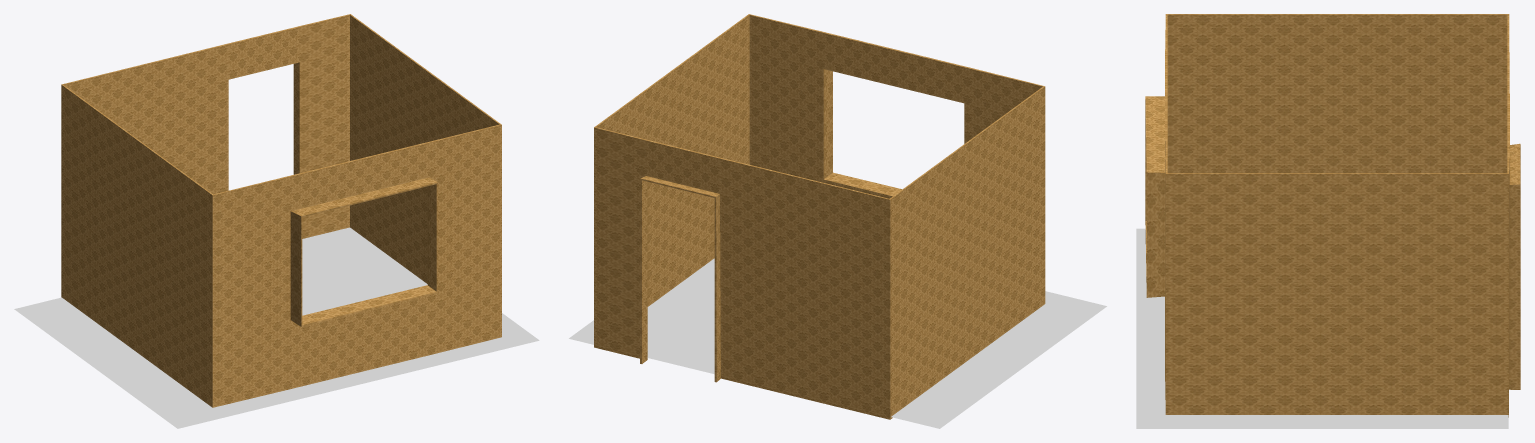
The model's file is Room_Kitchen.fbx.
3 views of the same model, side by side, from view 1: azimuth 30°, elevation 25°; view 2: azimuth 150°, elevation 25°; view 3: azimuth 270°, elevation 25° (orthographic). The views are drawn at different scales.
Parts seen in each view (by area): view 1: Walls.003, Plane; view 2: Walls.003, Plane; view 3: Walls.003, Plane.
Part boxes in pixels (x1=…): Walls.003: x1=61, y1=14, x2=501, y2=407; Plane: x1=14, y1=227, x2=539, y2=428; Walls.003: x1=594, y1=14, x2=1045, y2=419; Plane: x1=569, y1=258, x2=1106, y2=428; Walls.003: x1=1145, y1=14, x2=1520, y2=417; Plane: x1=1136, y1=228, x2=1508, y2=428.
Size of the model in its own units: 649 by 368 by 526.
Materials: 2 (1 with a texture image).
